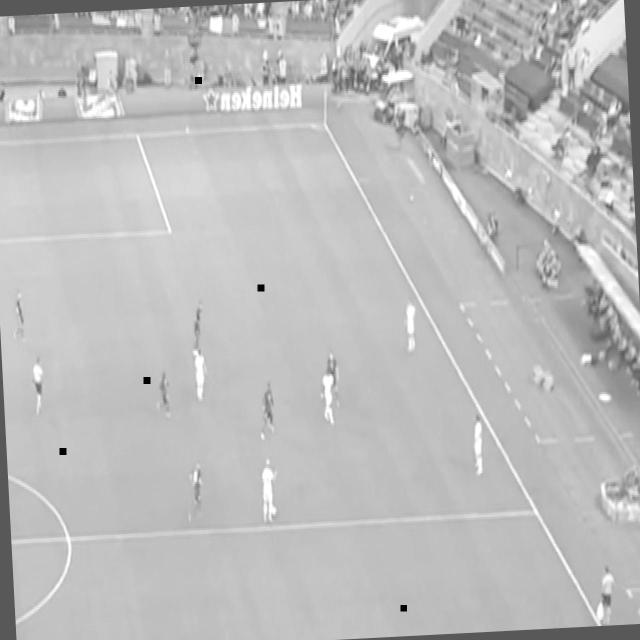ball: (269, 502, 279, 520)
player-white: (256, 455, 284, 533), (592, 558, 622, 626), (182, 456, 208, 527), (321, 344, 344, 411), (465, 409, 487, 479), (318, 366, 342, 430), (256, 376, 278, 445), (151, 364, 177, 421), (190, 342, 213, 406), (29, 352, 49, 422), (188, 295, 208, 361), (9, 287, 28, 345), (402, 296, 421, 352)
